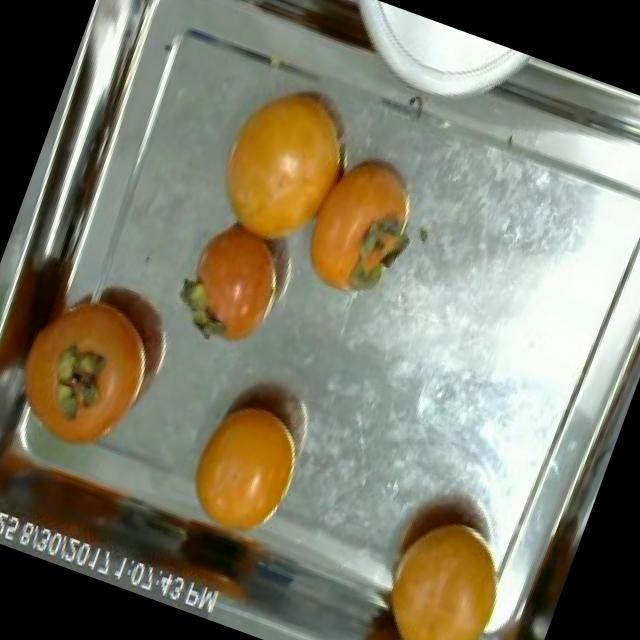Fruit: (0, 259, 189, 486), (190, 55, 380, 269), (279, 128, 444, 326), (164, 379, 324, 559), (347, 489, 527, 640), (164, 203, 308, 364)
